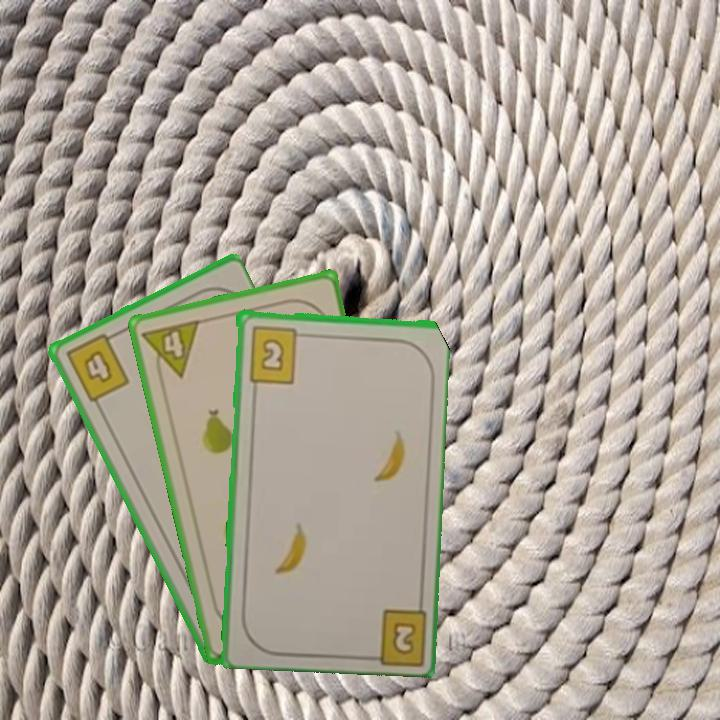2b: (244, 322, 309, 385), (388, 618, 418, 658)
4b: (61, 328, 132, 405)
4p: (138, 316, 203, 385)
